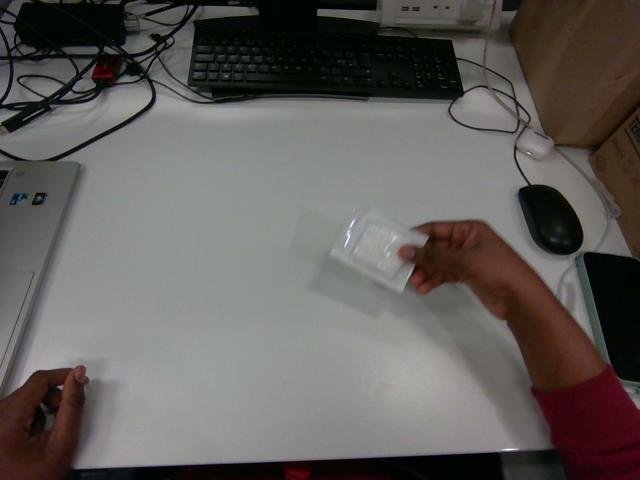gauze: (330, 208, 427, 292)
